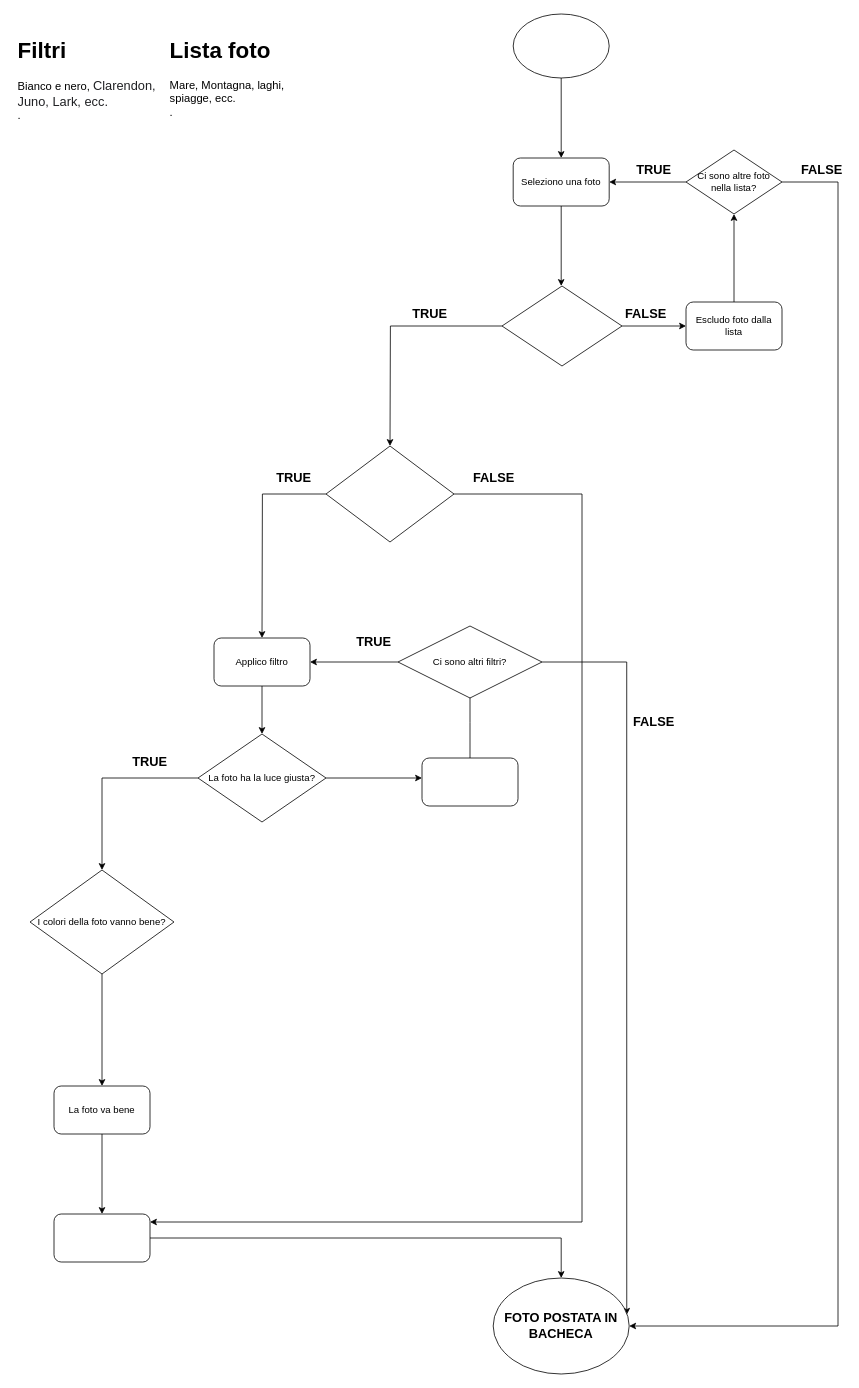
Some shapes in this 859 by 1388 pixel diagram are drawn without their labels. The shapes that lost their labels are listed below. From the top down, each one's centre as x and y in pixels, then its label:
At (560,45): "INIZIO".
At (561,325): "E' la foto migliore?".
At (389,493): "La foto ha bisogno di un filtro?".
At (469,781): "Escludo il filtro dalla lista".
At (101,1237): "Carica Foto su Instagram".
